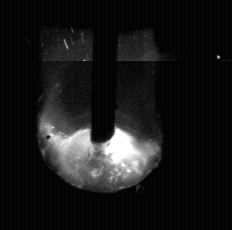arame: (91, 0, 116, 144)
poca: (38, 0, 162, 230)
